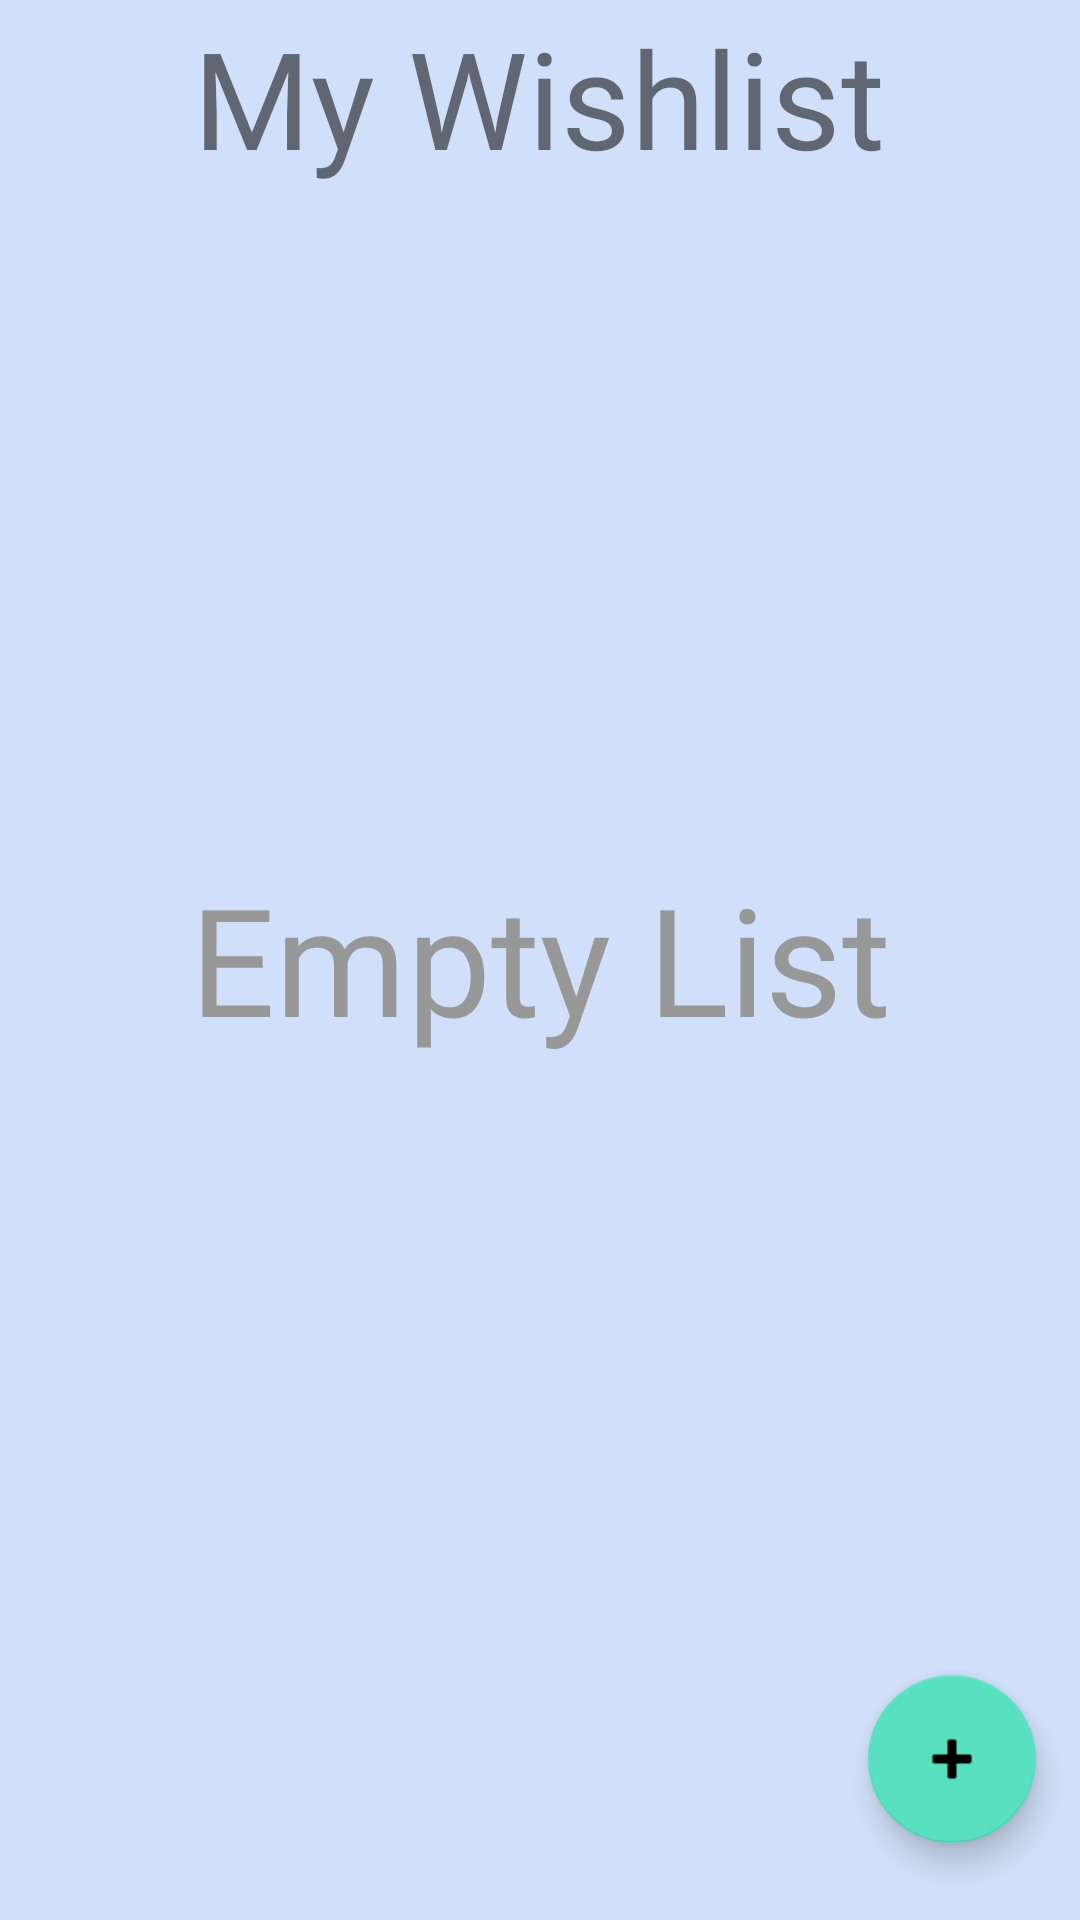

Screen size 1080×1920. Icon name, then its center in pixels as [x,y]:
add: [952,1759]
